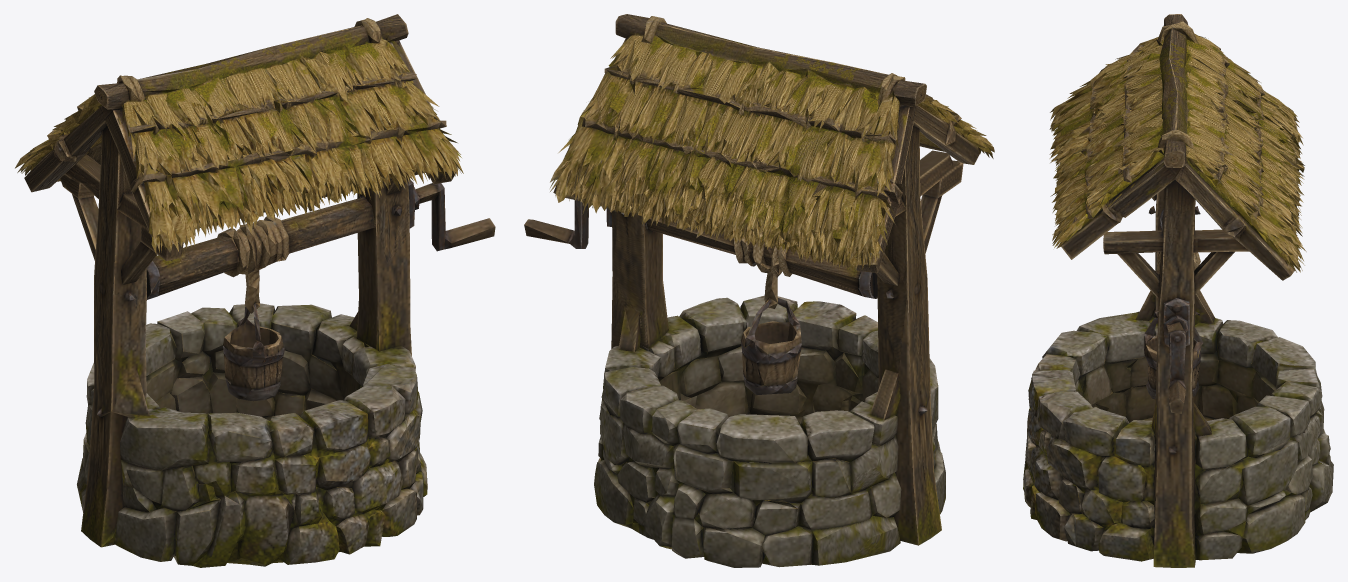
3 views of the same model, side by side, from view 1: azimuth 30°, elevation 25°; view 2: azimuth 150°, elevation 25°; view 3: azimuth 270°, elevation 25° (orthographic). The views are drawn at different scales.
Size of the model in its own units: 1.83 by 1.9 by 1.28.
Materials: 1 (1 with a texture image).
